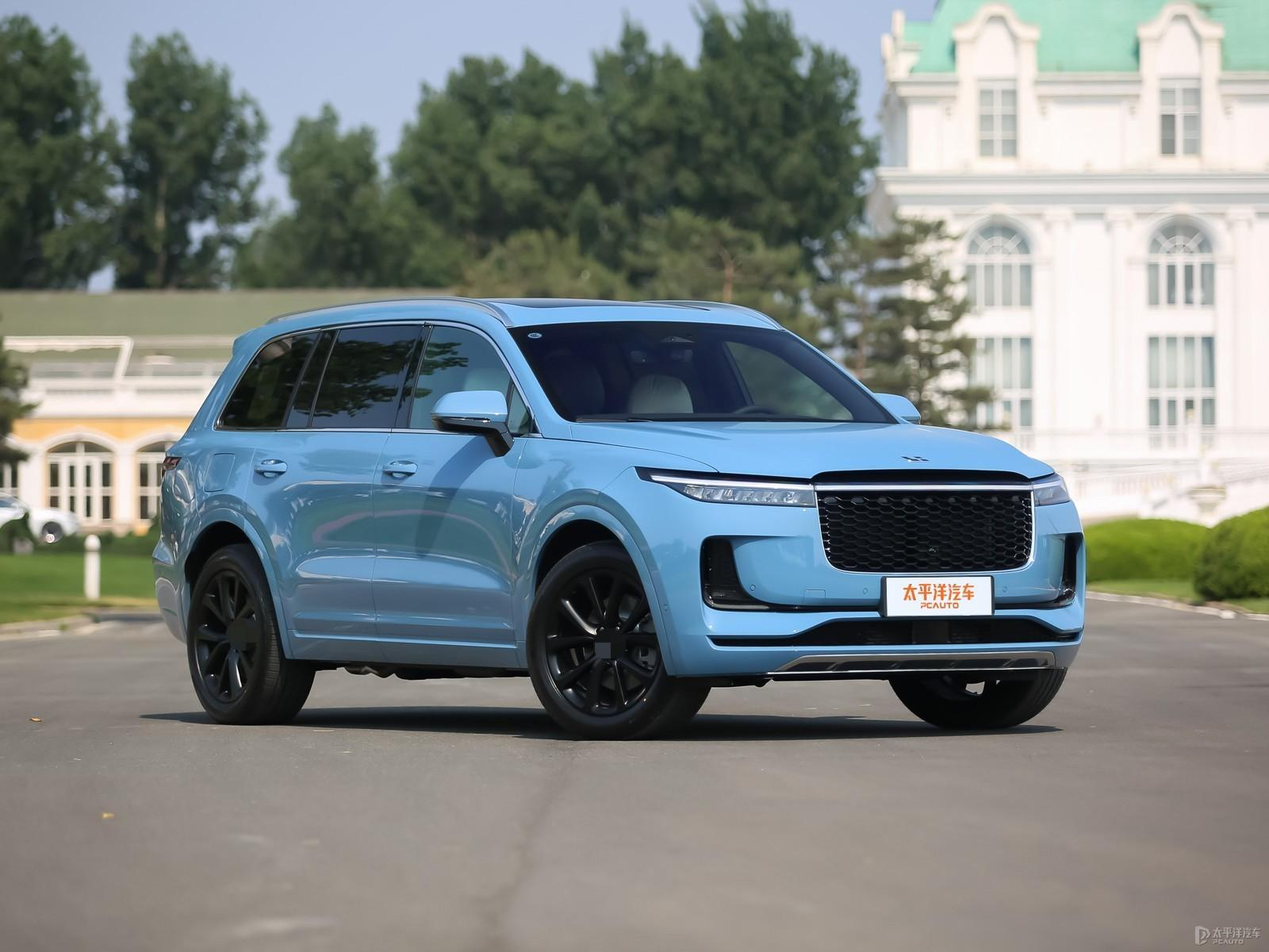Li Auto: (902, 455, 930, 463)
